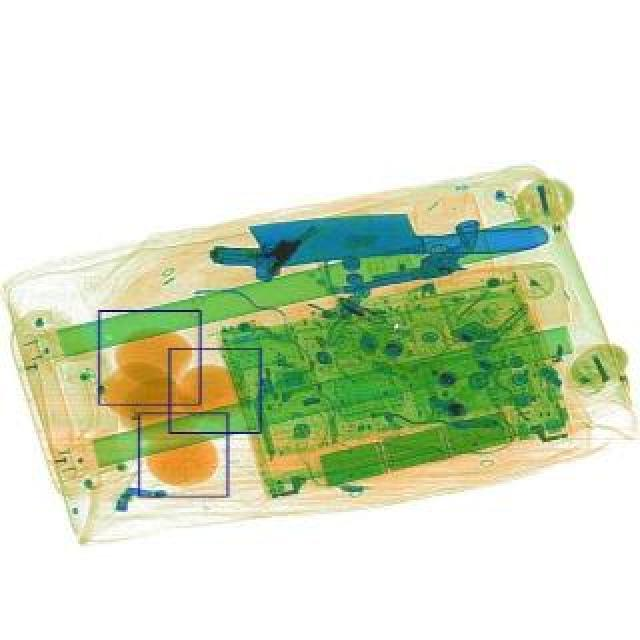gun: (336, 216, 492, 298), (208, 190, 322, 296)
knife: (252, 200, 554, 274)
